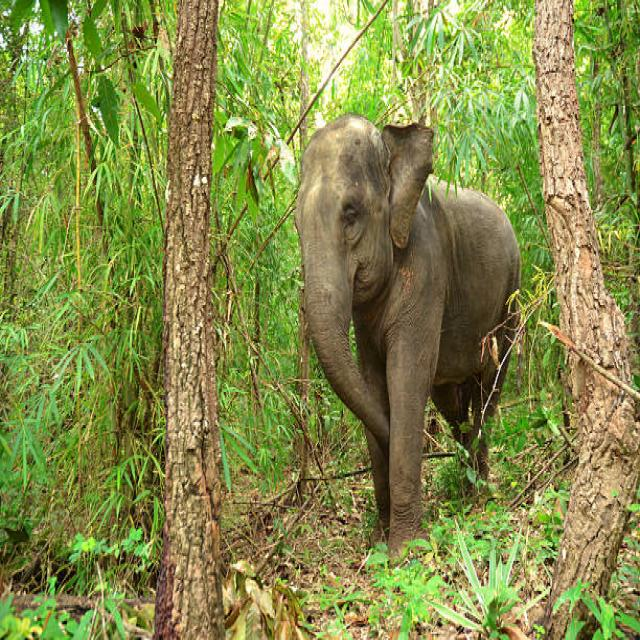Elephant: (293, 109, 531, 549)
